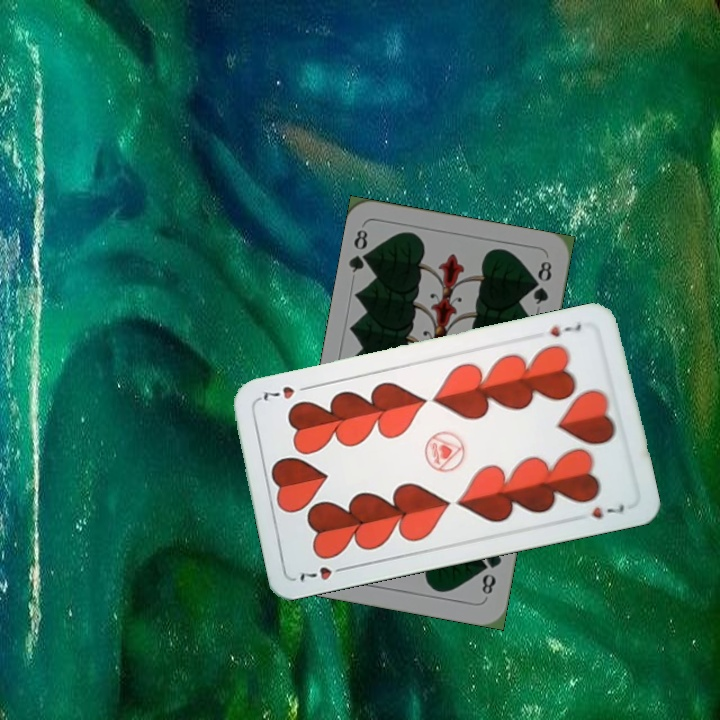G8: (345, 225, 375, 275), (478, 547, 504, 600)
H7: (295, 561, 351, 586), (546, 319, 584, 340)
